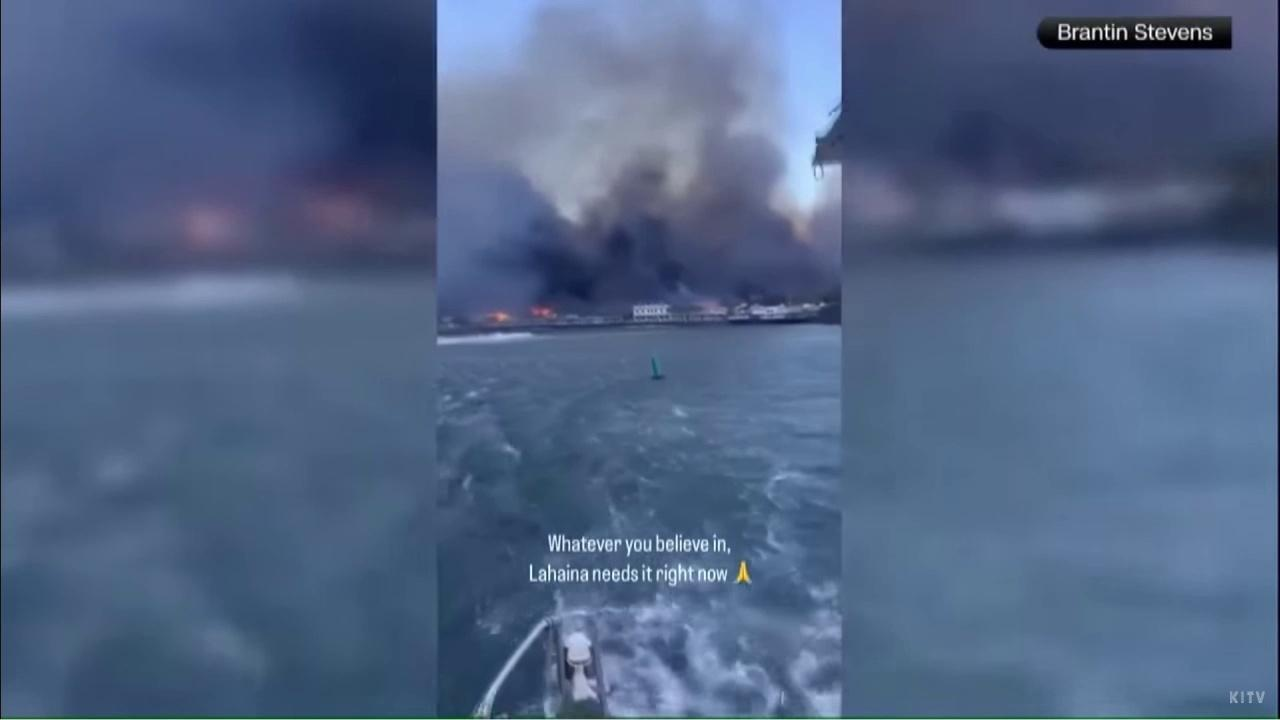fire: (485, 310, 512, 323), (529, 304, 554, 318)
smoke: (436, 0, 842, 324)
